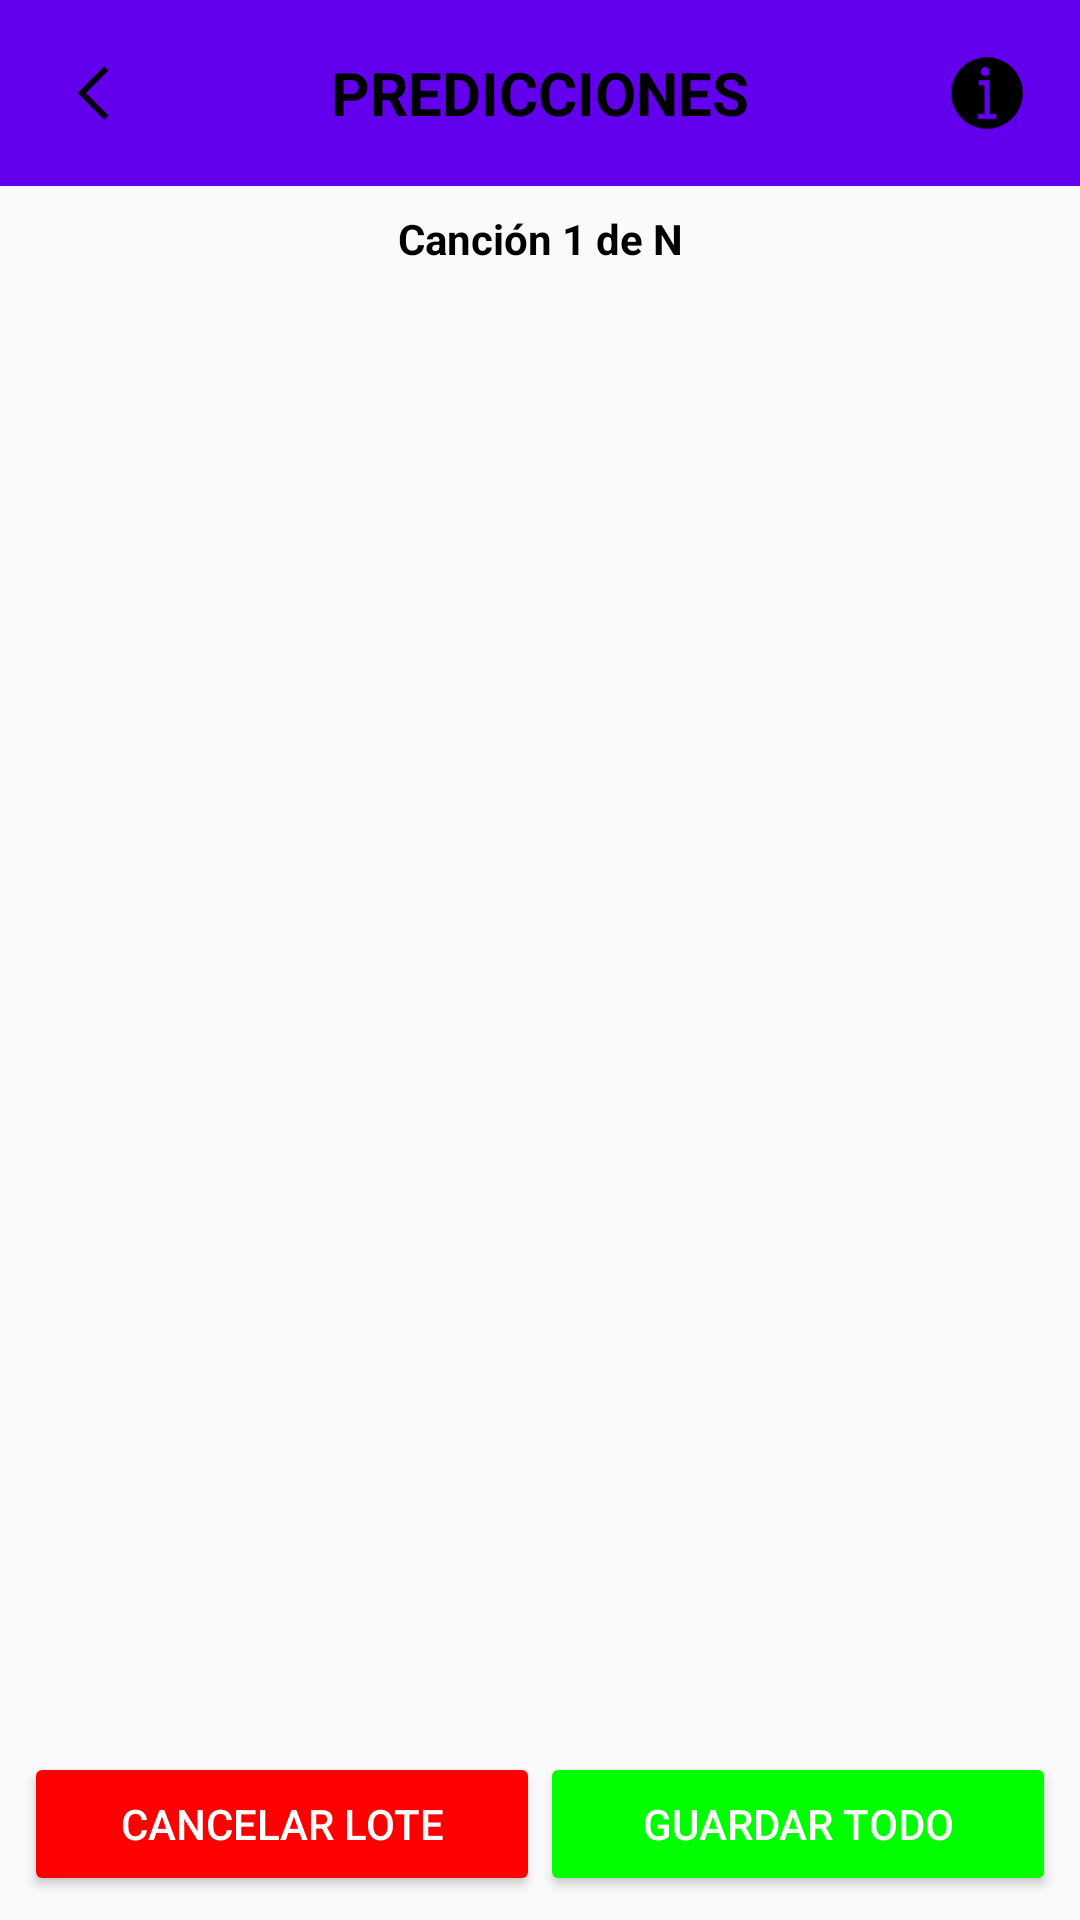

Where icons sit on this 1080px×1920px app screen, as bbox=[x1, y1, x2, y2]:
Información: bbox=[951, 57, 1023, 129]
Volver: bbox=[78, 66, 109, 120]
